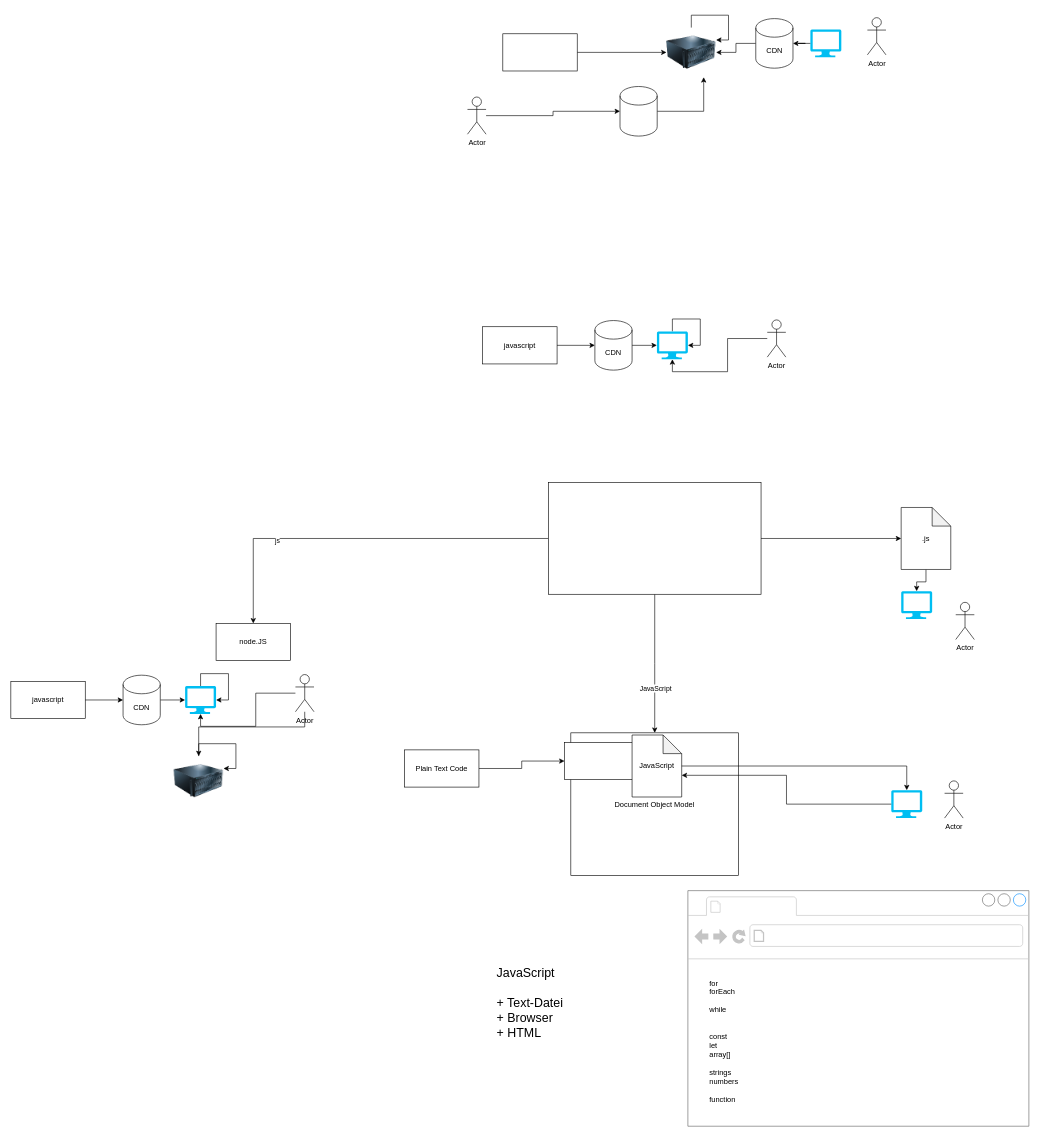
Image size: 1040x1137. Some labels were removed from this diagram. Here are the shapes that lost their labels. From the top down, the centre of each, then its label:
At [539,52]: "php".
At [638,111]: "CMS".
At [654,538]: "JavaScript Programmiersprache (prozedural) Browser".
At [601,761]: "HTML".
At [758,905]: "Page 1".
At [845,935]: "console".
